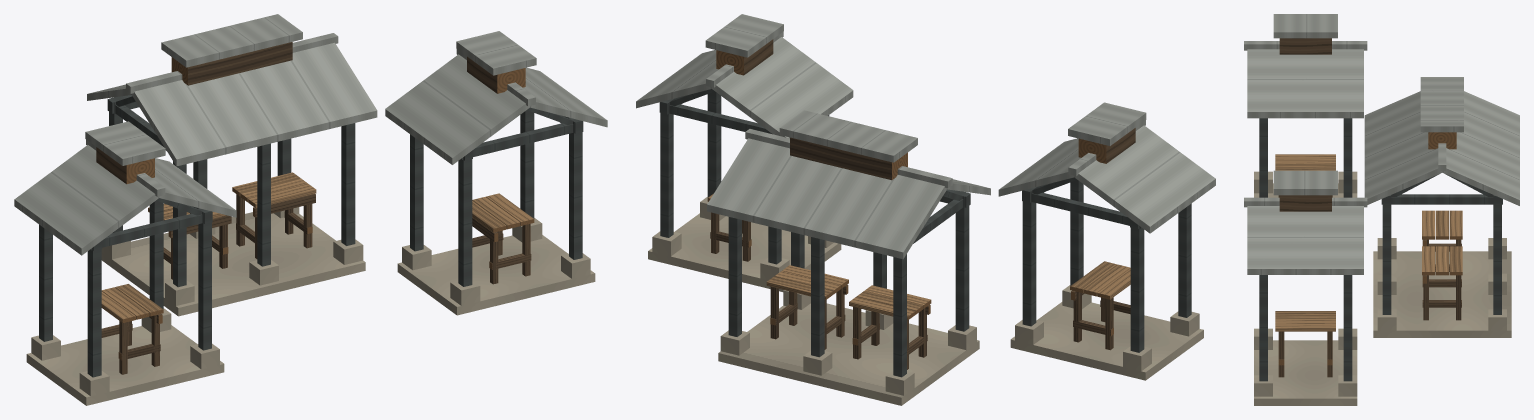
Rendered from tallinn.glb.
3 renders of one model, left to right at view 1: azimuth 30°, elevation 25°; view 2: azimuth 150°, elevation 25°; view 3: azimuth 270°, elevation 25°, orthographic. The views are drawn at different scales.
Visible parts, largest first — view 1: tallinn; view 2: tallinn; view 3: tallinn.
Boxes of the visible parts, left/top/right/bottom form: tallinn: left=14, top=14, right=607, bottom=405; tallinn: left=636, top=14, right=1215, bottom=405; tallinn: left=1244, top=14, right=1519, bottom=405.
Bounding box in the file's own units: 6.06 × 2.5 × 3.18.
Materials: 1 (1 with a texture image).
